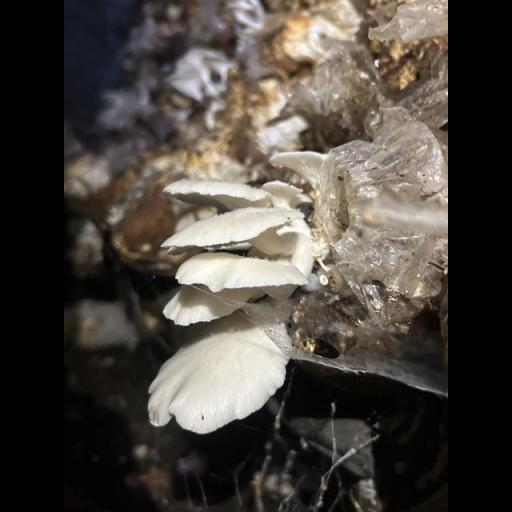White Oyster Mushroom: (144, 137, 335, 446)
